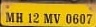character: (43, 12, 53, 24), (15, 11, 23, 23), (6, 11, 14, 22), (32, 11, 39, 23), (53, 12, 60, 23), (65, 13, 72, 24), (72, 13, 79, 24), (79, 13, 86, 24), (86, 12, 92, 24), (27, 12, 32, 24)
